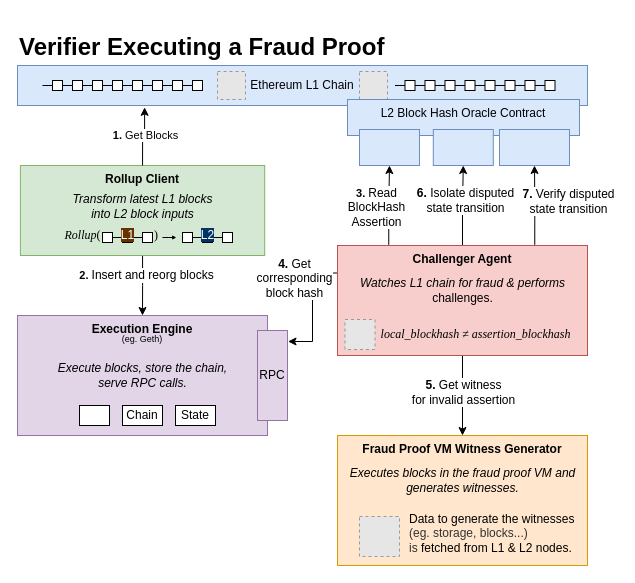
The diagram is 635 pixels wide and 583 high, and some of its shapes have lost their labels. Grey dashed boxes stand in for pictures. Each missing label, with the centre of its shape:
Assertion Manager: point (389, 147)
EVM: point (94, 415)
k-section game: point (462, 147)
Single-step verifier: point (534, 147)
